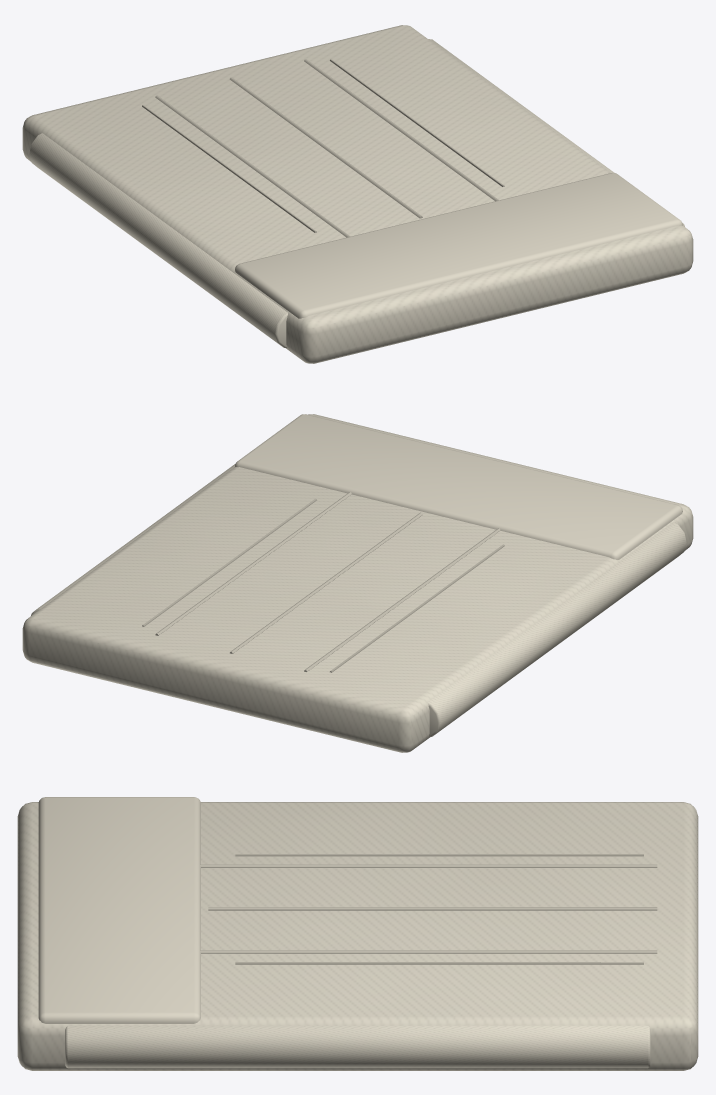
File: pf_pants_folded.glb
3 renders of one model, top to bottom at view 1: azimuth 30°, elevation 25°; view 2: azimuth 150°, elevation 25°; view 3: azimuth 270°, elevation 25°, orthographic. The views are drawn at different scales.
Visible parts, largest first — view 1: pf_pants_folded_body.001; view 2: pf_pants_folded_body.001; view 3: pf_pants_folded_body.001.
Part boxes in pixels (x1,y1,x2,y2): pf_pants_folded_body.001: (22,25,693,363); pf_pants_folded_body.001: (22,414,693,752); pf_pants_folded_body.001: (17,797,698,1070).
Bounding box in the file's own units: 0.3054 × 0.0369 × 0.374.
Materials: 4 (1 with a texture image).
